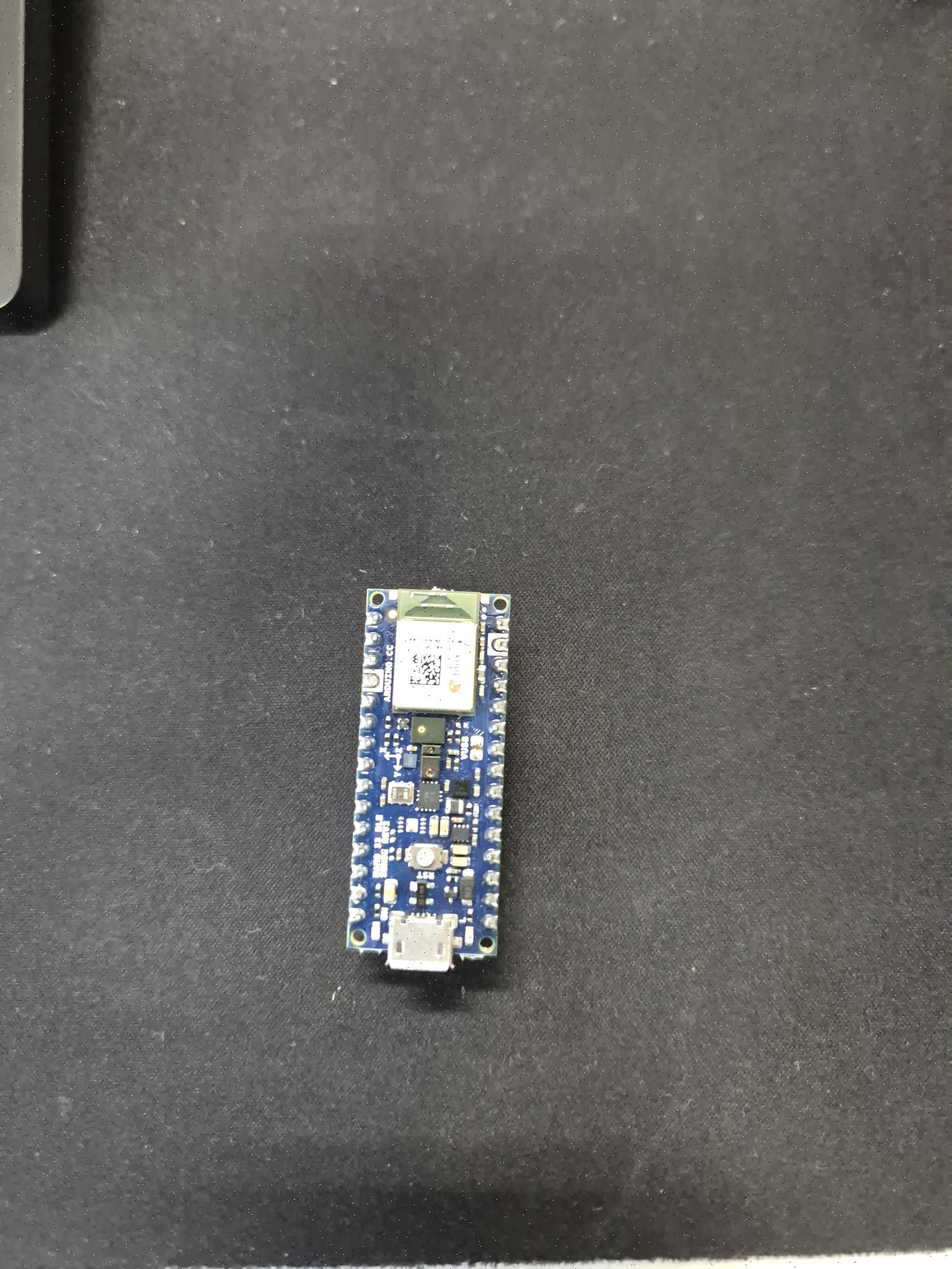arduino-nano-ble-sense: (348, 588, 510, 970)
